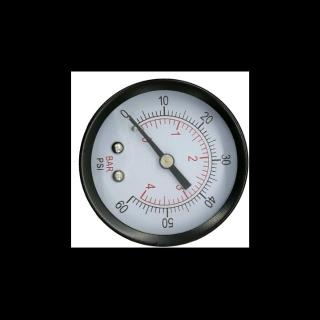gauge: (74, 74, 249, 246), (115, 192, 137, 212), (119, 108, 139, 126), (158, 153, 174, 169), (126, 113, 134, 123)
